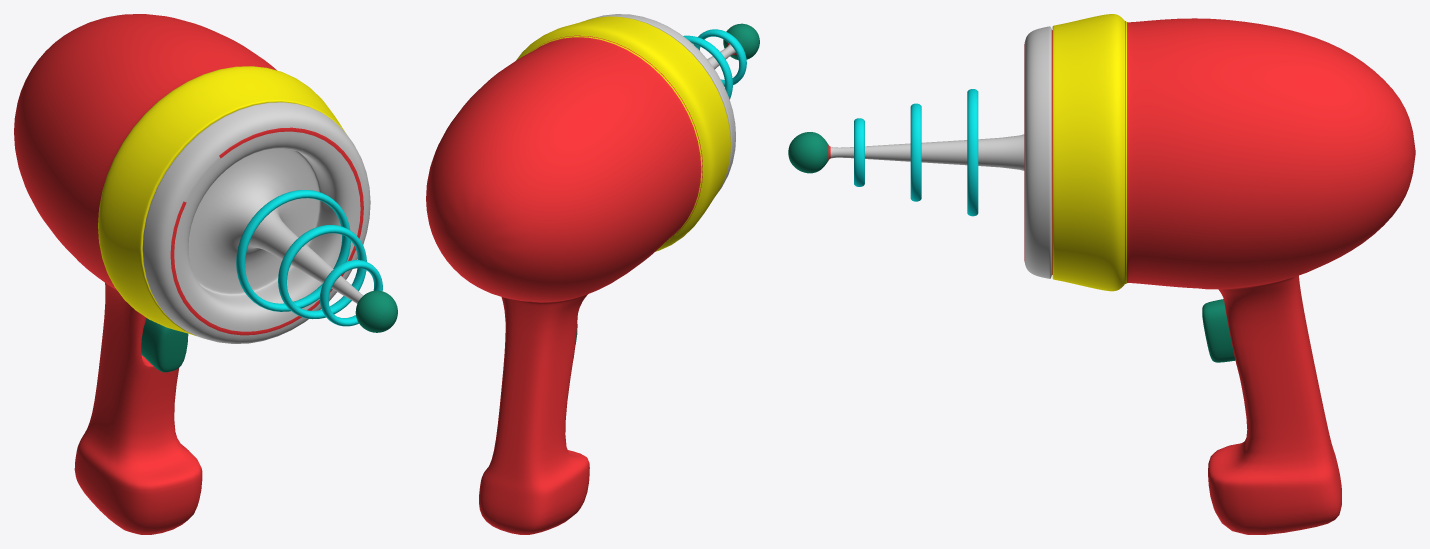
Rendered from RedLaserGun.fbx.
The picture shows the model from 3 angles, left to right: view 1: azimuth 30°, elevation 25°; view 2: azimuth 150°, elevation 25°; view 3: azimuth 270°, elevation 25°; orthographic projection. The views are drawn at different scales.
Parts seen in each view (by area): view 1: RedGun_LOD0; view 2: RedGun_LOD0; view 3: RedGun_LOD0.
Part boxes in pixels (<box>): RedGun_LOD0: <box>14,14,397,534</box>; RedGun_LOD0: <box>426,14,759,534</box>; RedGun_LOD0: <box>788,14,1415,534</box>.
Size of what is drawn, in the model's own units: 24.73 by 49.29 by 55.92.
